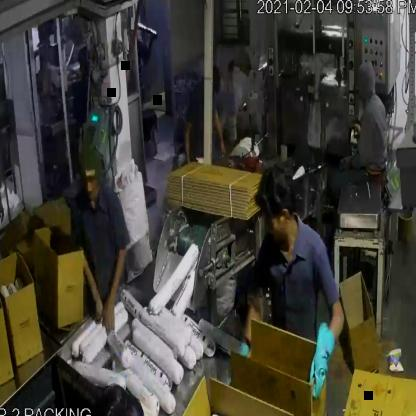glove: (305, 315, 338, 416)
no_glove: (66, 230, 104, 327), (104, 235, 128, 340), (210, 94, 228, 161), (183, 109, 199, 174)
